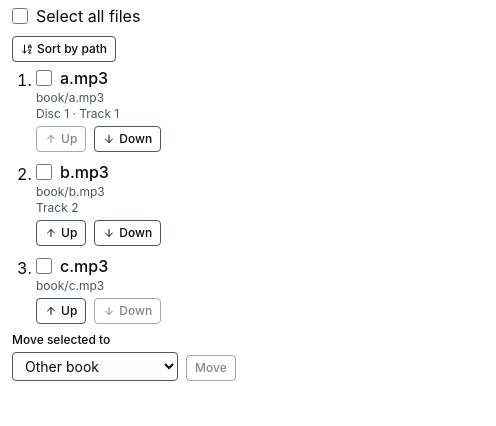
Test: GroupFiles › moving selected files › shows an alert and reloads the files after a 400
Click the checkbox named "Select b.mp3". click: (44, 172)
box: [36,164,52,180]
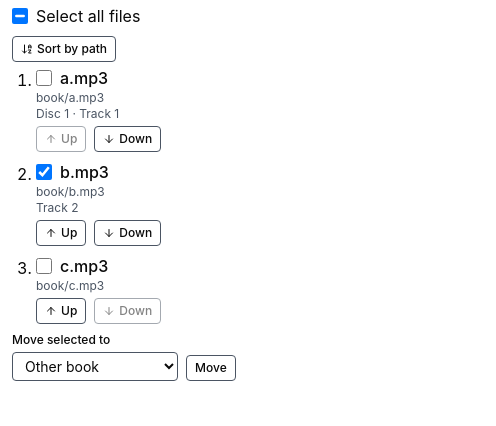
Click the button "Move". click: (211, 368)
box: [186,355,236,381]
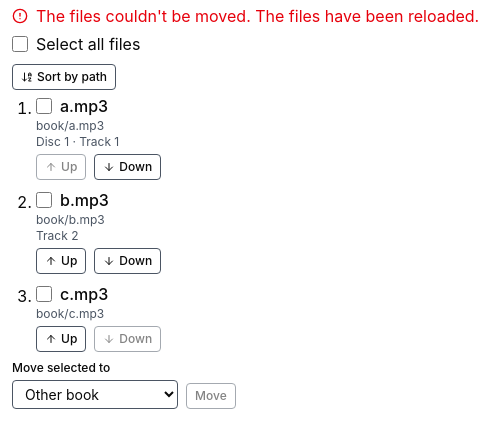
Check: the checkbox named "Select b.mp3" is not checked, box [36,192,52,208]
Check: the message shows "couldn't be moved", box [36,6,479,26]
Check: the button "Move" is disabled, box [186,383,236,409]
